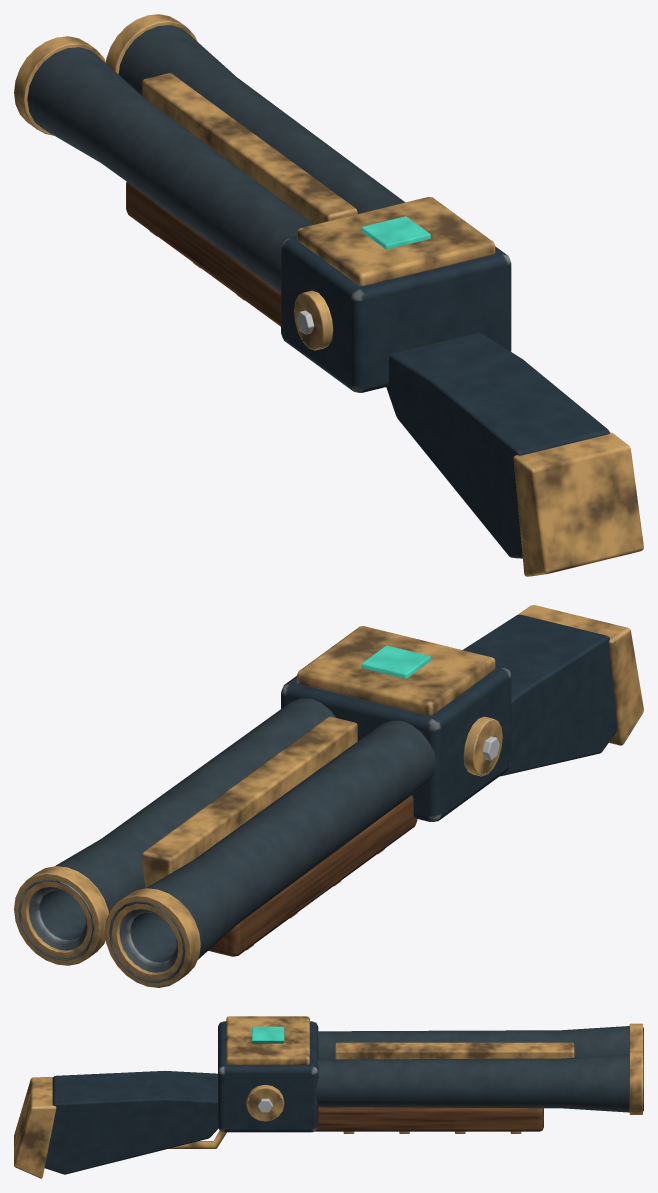
File: shotgun.glb
The picture shows the model from 3 angles, top to bottom: view 1: azimuth 30°, elevation 25°; view 2: azimuth 150°, elevation 25°; view 3: azimuth 270°, elevation 25°; orthographic projection. The views are drawn at different scales.
Visible parts, largest first — view 1: v3_shotgun__scatter_barrel_0, v3_shotgun__short_stock, v3_shotgun__receiver, v3_shotgun__stock_plate, v3_shotgun__scatter_barrel_1, v3_shotgun__receiver_top, v3_shotgun__barrel_bridge, v3_shotgun__lower_handguard, v3_shotgun__scatter_lip_0, v3_shotgun__hinge_neg1, v3_shotgun__core_inlay, v3_shotgun__scatter_lip_1; view 2: v3_shotgun__scatter_barrel_0, v3_shotgun__scatter_barrel_1, v3_shotgun__short_stock, v3_shotgun__receiver, v3_shotgun__receiver_top, v3_shotgun__barrel_bridge, v3_shotgun__lower_handguard, v3_shotgun__scatter_lip_0, v3_shotgun__scatter_lip_1, v3_shotgun__stock_plate, v3_shotgun__hinge_neg1, v3_shotgun__core_inlay; view 3: v3_shotgun__scatter_barrel_1, v3_shotgun__short_stock, v3_shotgun__receiver, v3_shotgun__lower_handguard, v3_shotgun__scatter_barrel_0, v3_shotgun__barrel_bridge, v3_shotgun__receiver_top, v3_shotgun__stock_plate, v3_shotgun__hinge_1, v3_shotgun__scatter_lip_1, v3_shotgun__core_inlay, v3_shotgun__scatter_lip_0 (+1 smaller).
Part boxes in pixels (bbox=[...]): v3_shotgun__scatter_barrel_0: bbox=[27, 47, 314, 292]; v3_shotgun__short_stock: bbox=[386, 332, 609, 558]; v3_shotgun__receiver: bbox=[281, 236, 511, 392]; v3_shotgun__stock_plate: bbox=[513, 432, 643, 576]; v3_shotgun__scatter_barrel_1: bbox=[118, 25, 405, 213]; v3_shotgun__receiver_top: bbox=[297, 197, 495, 286]; v3_shotgun__barrel_bridge: bbox=[142, 73, 357, 224]; v3_shotgun__lower_handguard: bbox=[126, 182, 280, 326]; v3_shotgun__scatter_lip_0: bbox=[14, 36, 106, 135]; v3_shotgun__hinge_neg1: bbox=[294, 290, 333, 350]; v3_shotgun__core_inlay: bbox=[361, 216, 430, 249]; v3_shotgun__scatter_lip_1: bbox=[106, 14, 196, 74]; v3_shotgun__scatter_barrel_0: bbox=[109, 720, 436, 982]; v3_shotgun__scatter_barrel_1: bbox=[18, 698, 335, 960]; v3_shotgun__short_stock: bbox=[463, 614, 617, 776]; v3_shotgun__receiver: bbox=[281, 665, 511, 821]; v3_shotgun__receiver_top: bbox=[297, 626, 495, 715]; v3_shotgun__barrel_bridge: bbox=[142, 716, 357, 887]; v3_shotgun__lower_handguard: bbox=[208, 795, 417, 956]; v3_shotgun__scatter_lip_0: bbox=[105, 888, 200, 987]; v3_shotgun__scatter_lip_1: bbox=[14, 866, 108, 965]; v3_shotgun__stock_plate: bbox=[518, 605, 643, 745]; v3_shotgun__hinge_neg1: bbox=[463, 716, 502, 776]; v3_shotgun__core_inlay: bbox=[361, 645, 430, 678]; v3_shotgun__scatter_barrel_1: bbox=[315, 1054, 643, 1112]; v3_shotgun__short_stock: bbox=[44, 1071, 218, 1174]; v3_shotgun__receiver: bbox=[218, 1021, 318, 1132]; v3_shotgun__lower_handguard: bbox=[315, 1107, 543, 1131]; v3_shotgun__scatter_barrel_0: bbox=[317, 1026, 643, 1059]; v3_shotgun__barrel_bridge: bbox=[335, 1042, 574, 1059]; v3_shotgun__receiver_top: bbox=[226, 1016, 309, 1064]; v3_shotgun__stock_plate: bbox=[14, 1077, 56, 1178]; v3_shotgun__hinge_1: bbox=[246, 1084, 284, 1121]; v3_shotgun__scatter_lip_1: bbox=[629, 1051, 642, 1114]; v3_shotgun__core_inlay: bbox=[252, 1026, 284, 1043]; v3_shotgun__scatter_lip_0: bbox=[629, 1023, 642, 1051].
Bounding box in the file's own units: 0.254 × 0.2584 × 1.13.
Materials: 2 (2 with a texture image).
